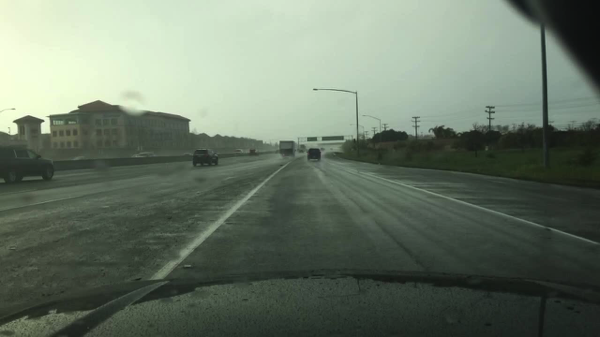car: (1, 147, 56, 185), (192, 148, 219, 167), (307, 147, 321, 162), (138, 151, 154, 158), (247, 148, 259, 157), (73, 155, 86, 160), (298, 147, 304, 155), (183, 152, 193, 156), (233, 149, 243, 153), (130, 154, 139, 158), (273, 149, 280, 154), (242, 150, 249, 154)
traffic sign: (322, 136, 344, 141), (307, 136, 317, 142)
truck: (279, 140, 296, 159)
